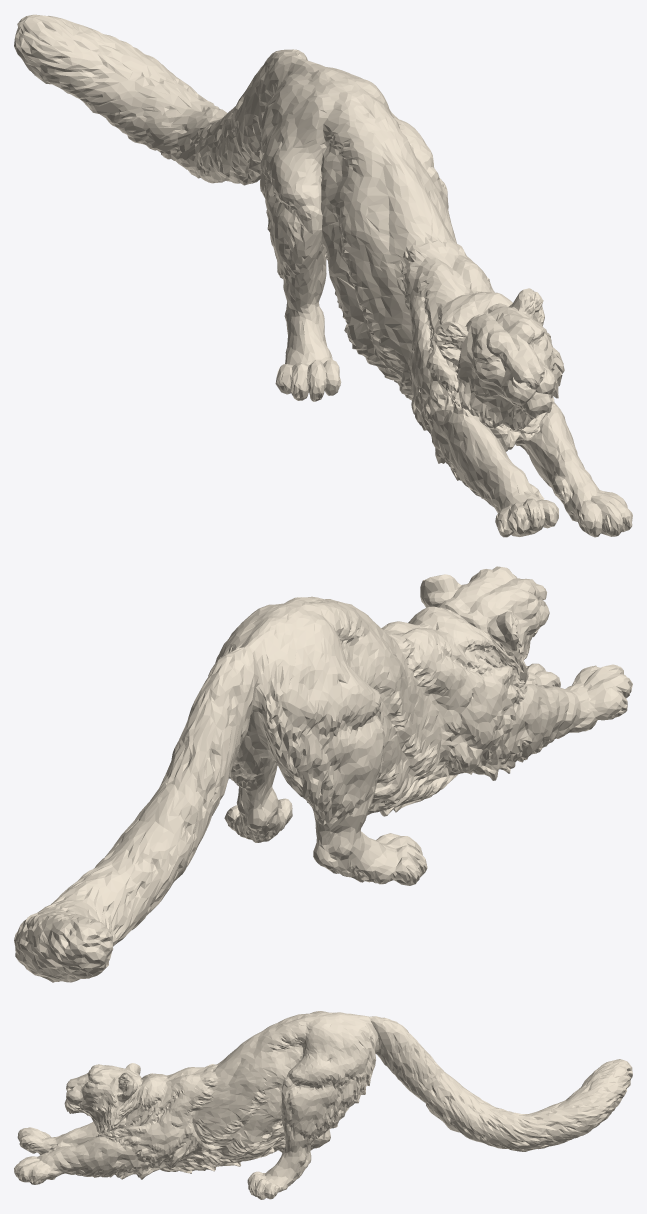
The model's file is animal_snowleopard_v1.glb.
3 views of the same model, one above another, from view 1: azimuth 30°, elevation 25°; view 2: azimuth 150°, elevation 25°; view 3: azimuth 270°, elevation 25° (orthographic). The views are drawn at different scales.
Parts seen in each view (by area): view 1: snow-leo-stretch; view 2: snow-leo-stretch; view 3: snow-leo-stretch.
Boxes of the visible parts, x1,y1,x2,y2 form: snow-leo-stretch: (14,14,632,537); snow-leo-stretch: (14,566,632,982); snow-leo-stretch: (14,1011,632,1199).
Size of the model in its own units: 21.63 by 28.2 by 98.95.
